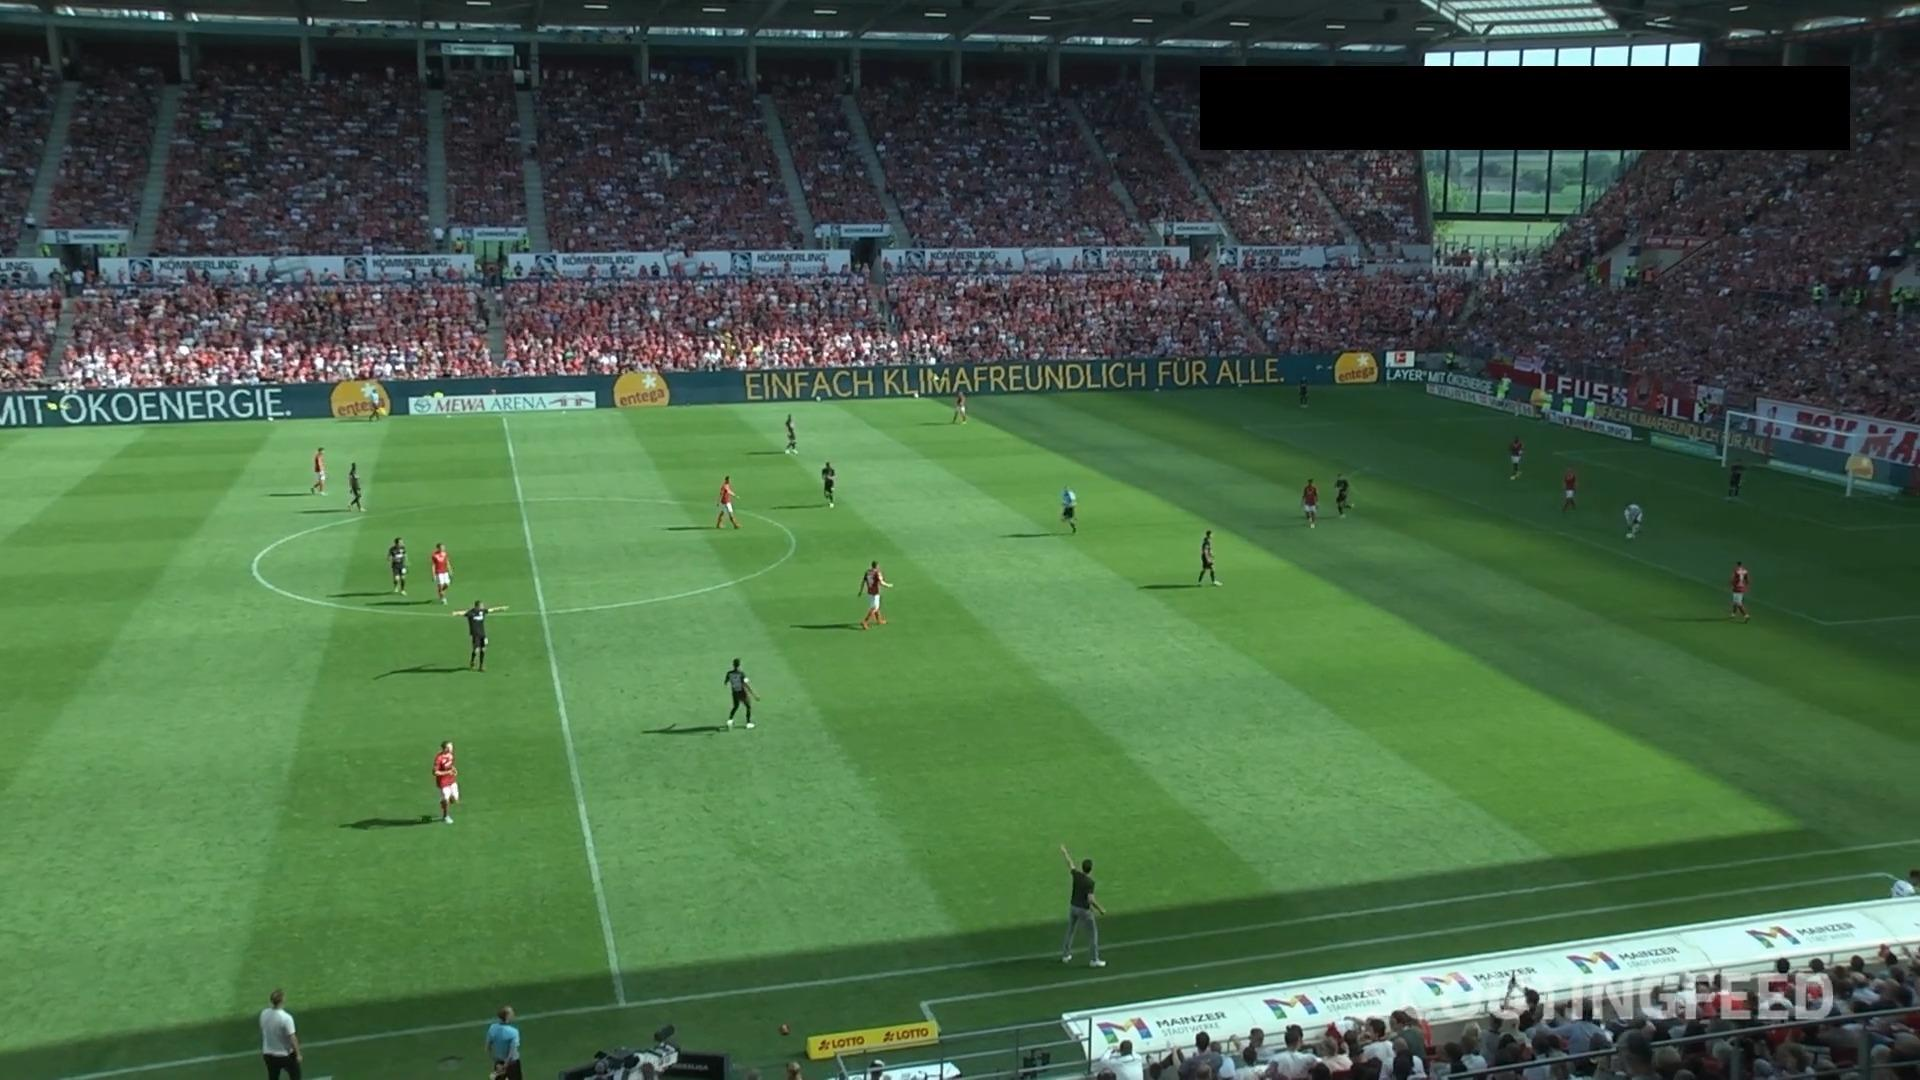ball: (1626, 531, 1633, 539)
